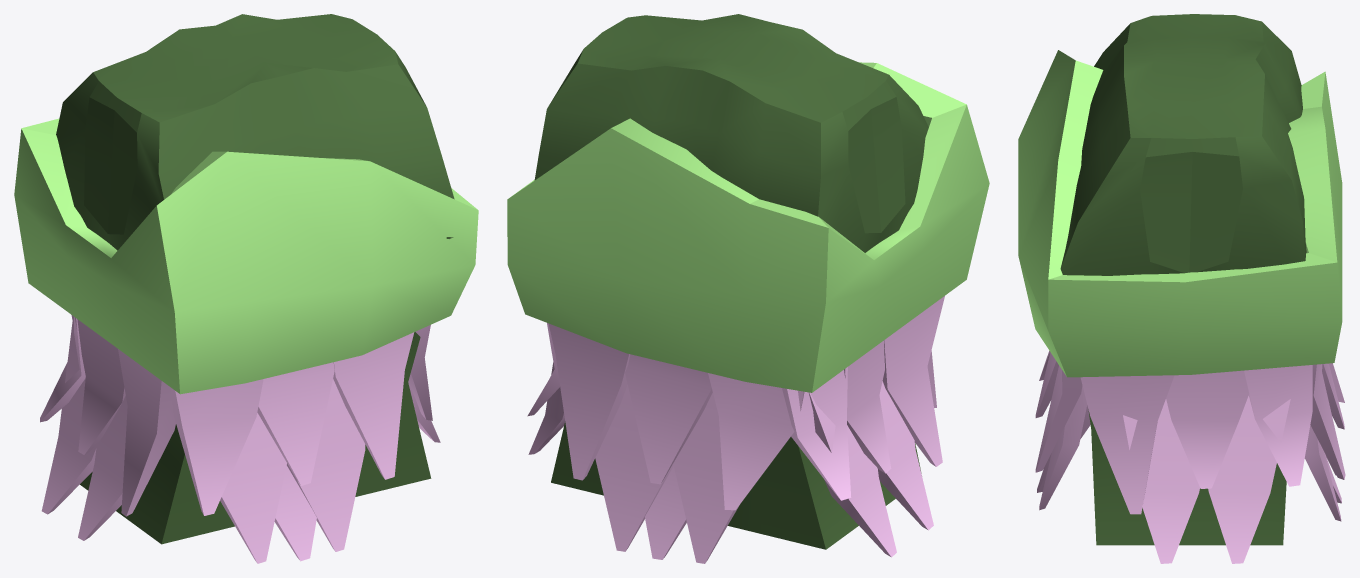
File: FlowerFighter_Body_v3_Rigged.fbx
3 views of the same model, side by side, from view 1: azimuth 30°, elevation 25°; view 2: azimuth 150°, elevation 25°; view 3: azimuth 270°, elevation 25° (orthographic). The views are drawn at different scales.
Parts seen in each view (by area): view 1: Body; view 2: Body; view 3: Body.
Part boxes in pixels (box(x1,y1,x2,y2)): Body: box(14, 14, 478, 563); Body: box(507, 14, 989, 563); Body: box(1018, 14, 1345, 563).
Size of the model in its own units: 232 by 279 by 187.
